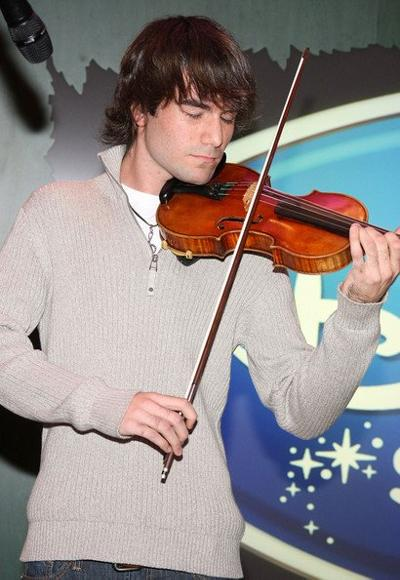person: (2, 14, 400, 580)
